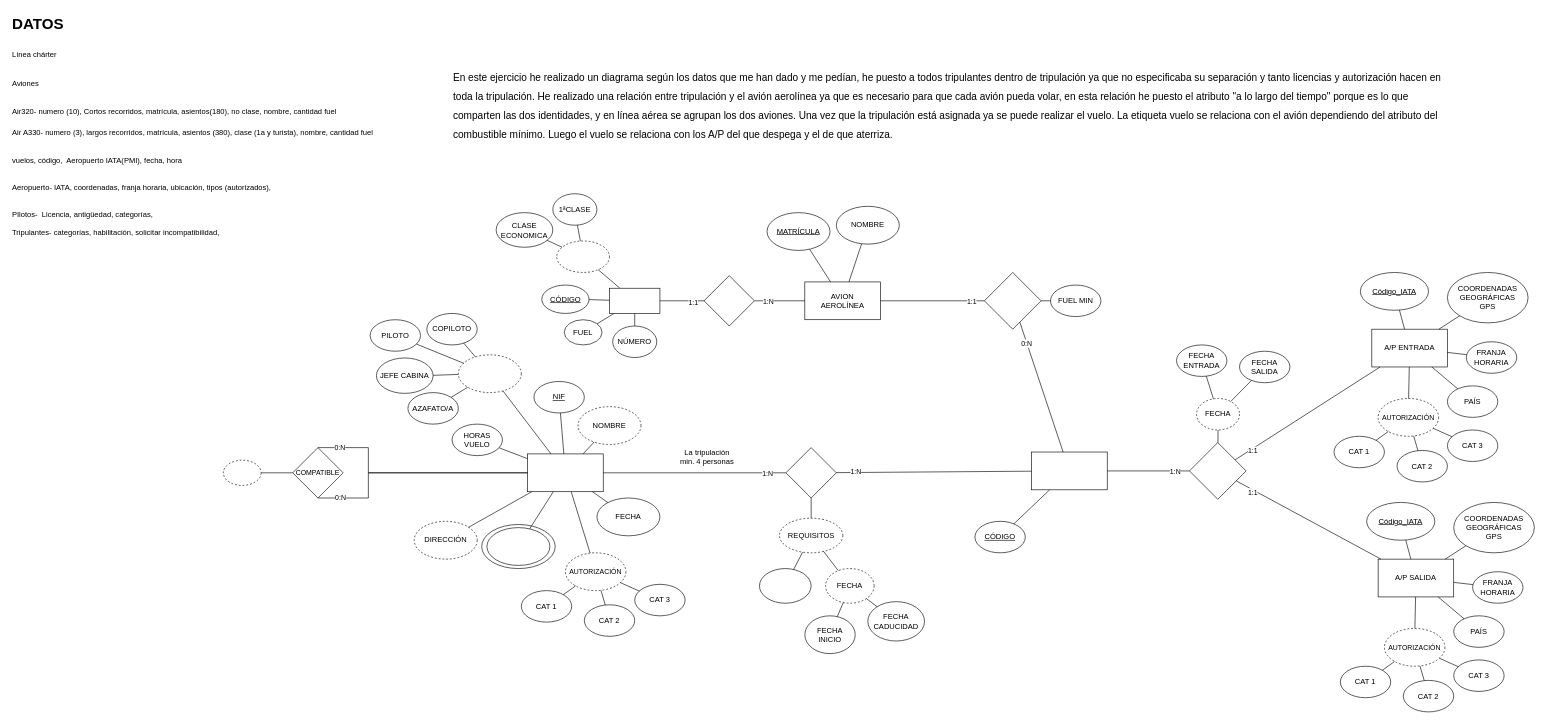
Some shapes in this 1545 by 723 pixel diagram are drawn without their labels. The shapes that lost their labels are listed below. From the top down, each one's centre as x and y in pixels, then its label:
the point at 583,256: ASIENTOS
the point at 634,300: MODELO
the point at 728,300: CLASIFICA
the point at 1012,300: REALIZAR
the point at 489,373: CATEGORIA
the point at 242,472: SI/NO
the point at 565,472: TRIPULACIÓN
the point at 810,472: AIGNA
the point at 1069,470: VUELO
the point at 1217,470: VOLAR
the point at 518,546: TELÉFONO
the point at 785,585: LICENCIA
